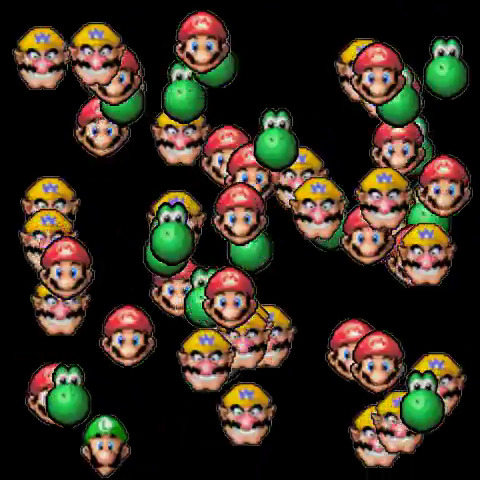luigi: (81, 417, 134, 480)
